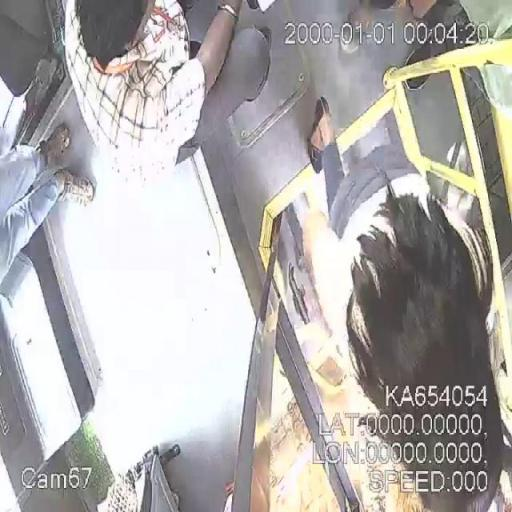persona: (304, 94, 508, 510), (61, 0, 245, 183)
